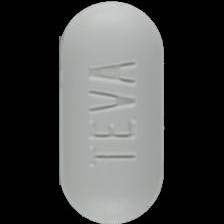42291-757: (0, 0, 224, 224)
